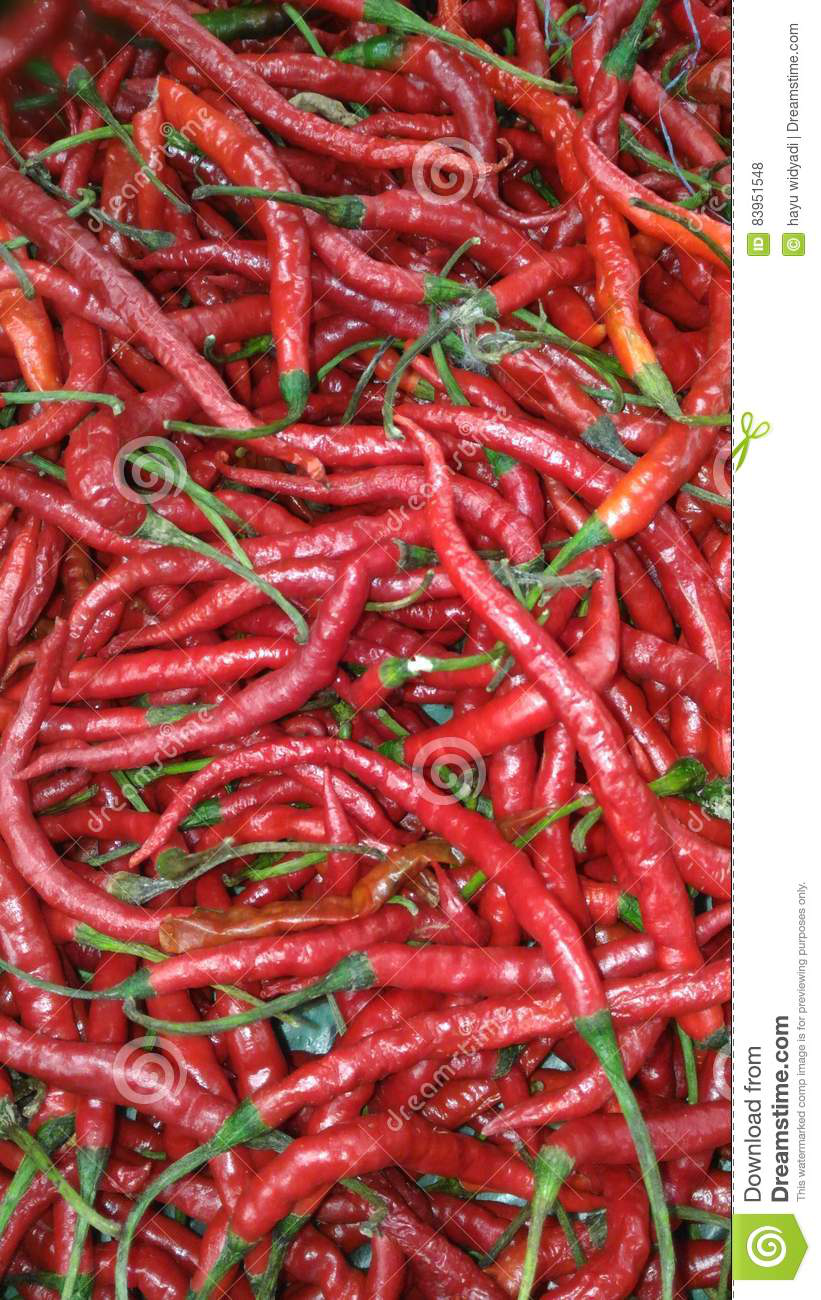Cabai: (143, 289, 595, 929)
